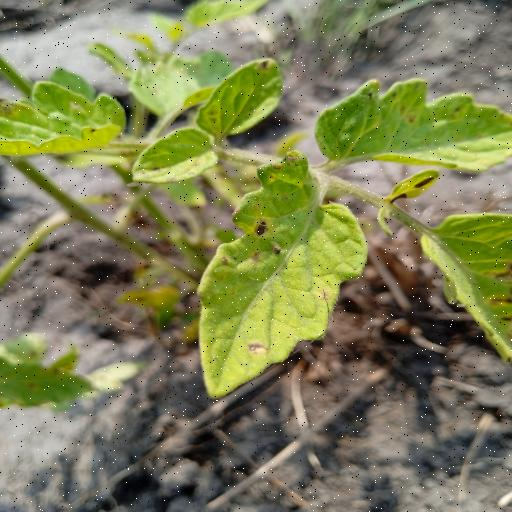Tomato_Brown_Spots: (193, 152, 371, 405), (314, 78, 512, 180), (417, 202, 512, 361), (0, 77, 130, 163), (201, 55, 290, 142), (135, 124, 222, 184)
